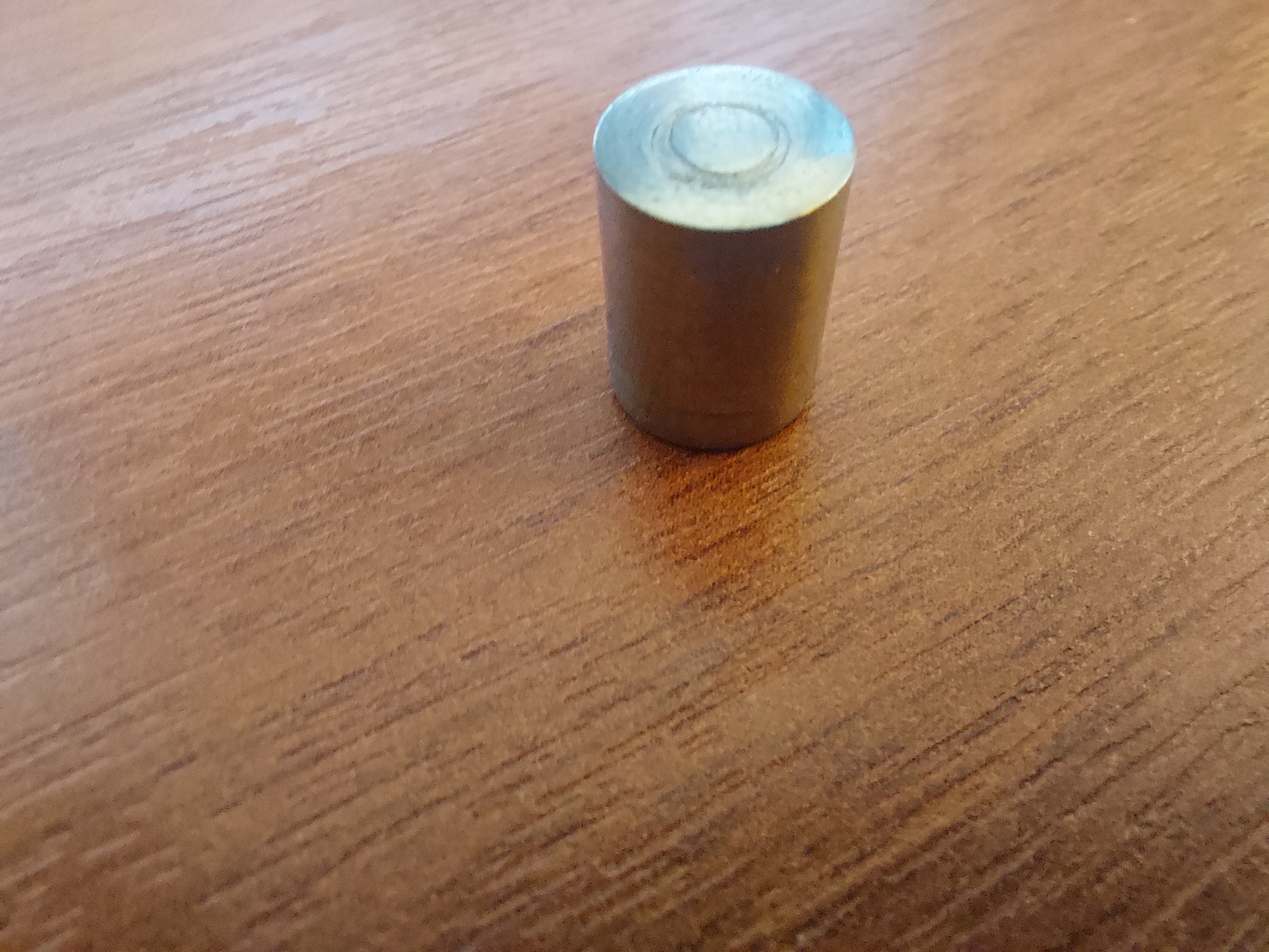tablet: (566, 59, 879, 458)
